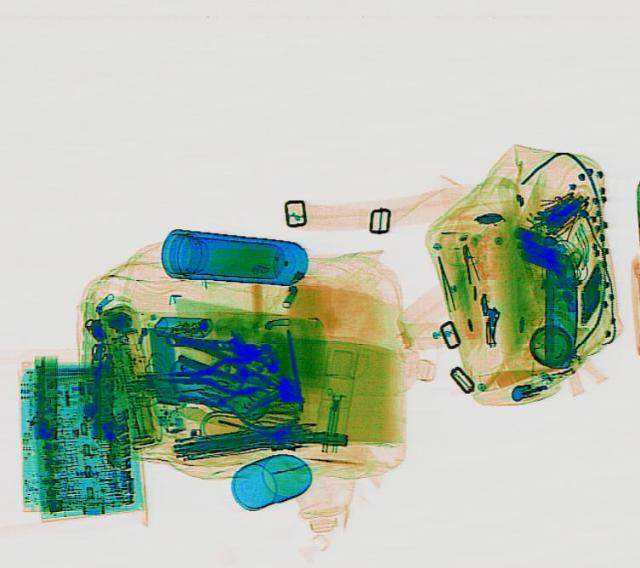Pliers: (156, 351, 260, 394)
Wrench: (162, 323, 258, 358)
